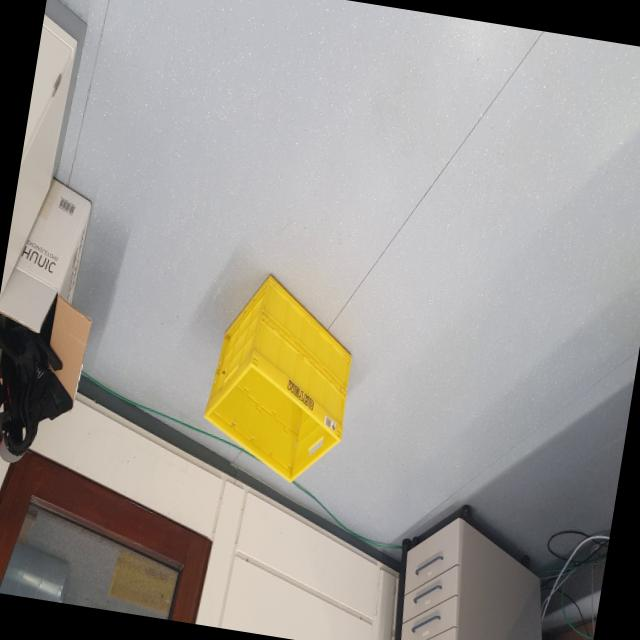box: (190, 251, 373, 496)
